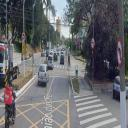NoVirarEsquerda: (117, 36, 123, 68), (91, 37, 95, 49), (42, 44, 44, 48)
NoVirarU: (21, 32, 26, 43)
